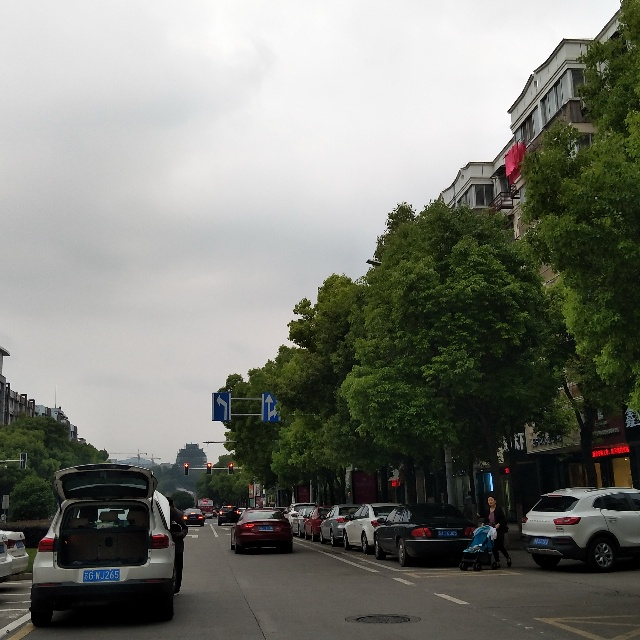left: (208, 393, 232, 423)
